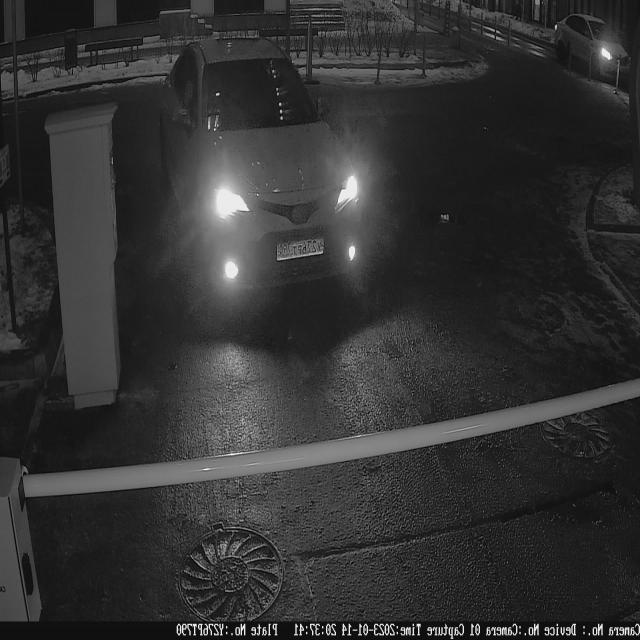car-plate-numbers: (272, 232, 328, 265)
